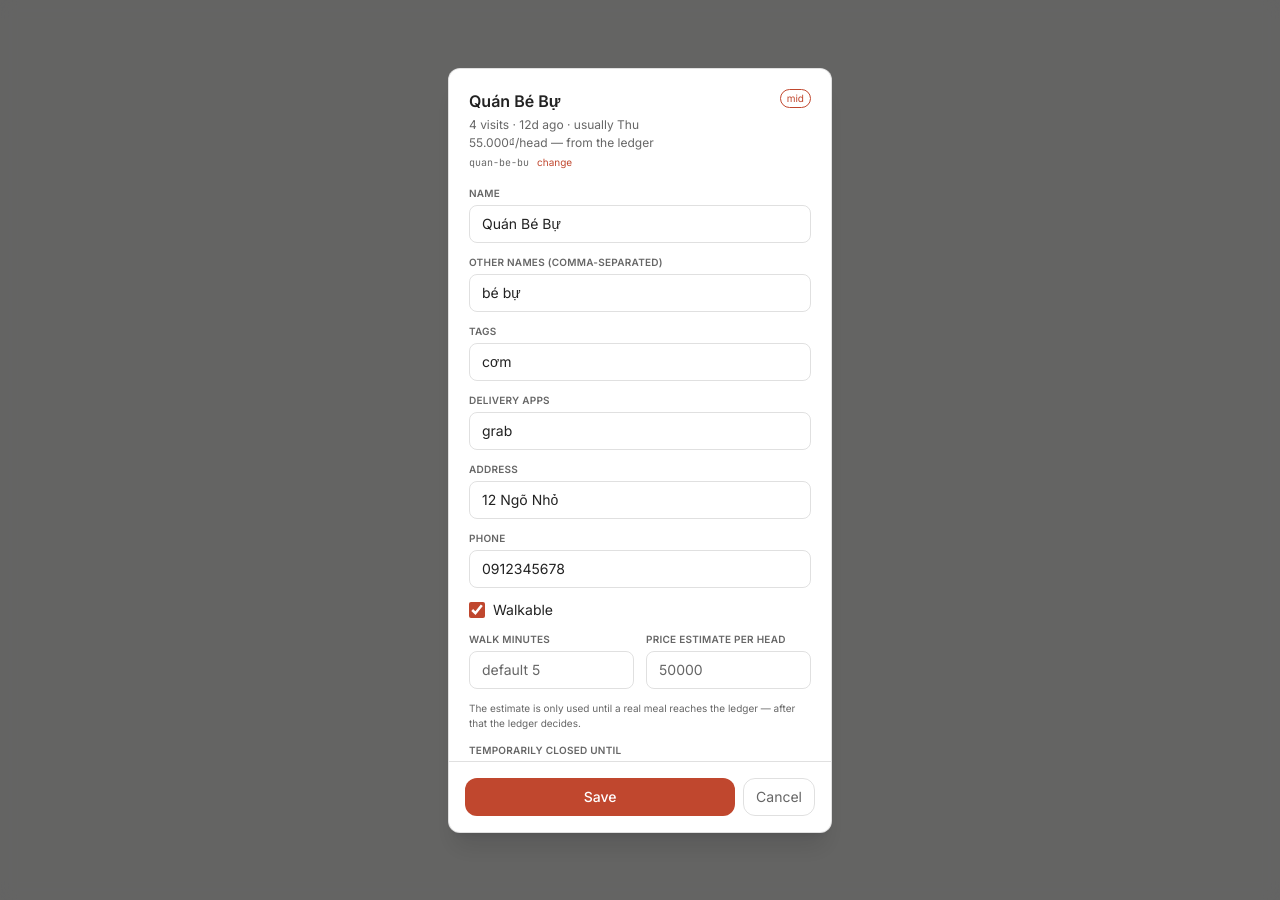
PlaceDialog — changing the identifier › shows a collision as the server described it, and stays open
Click the button "change": x=555, y=162 [537,154,572,170]
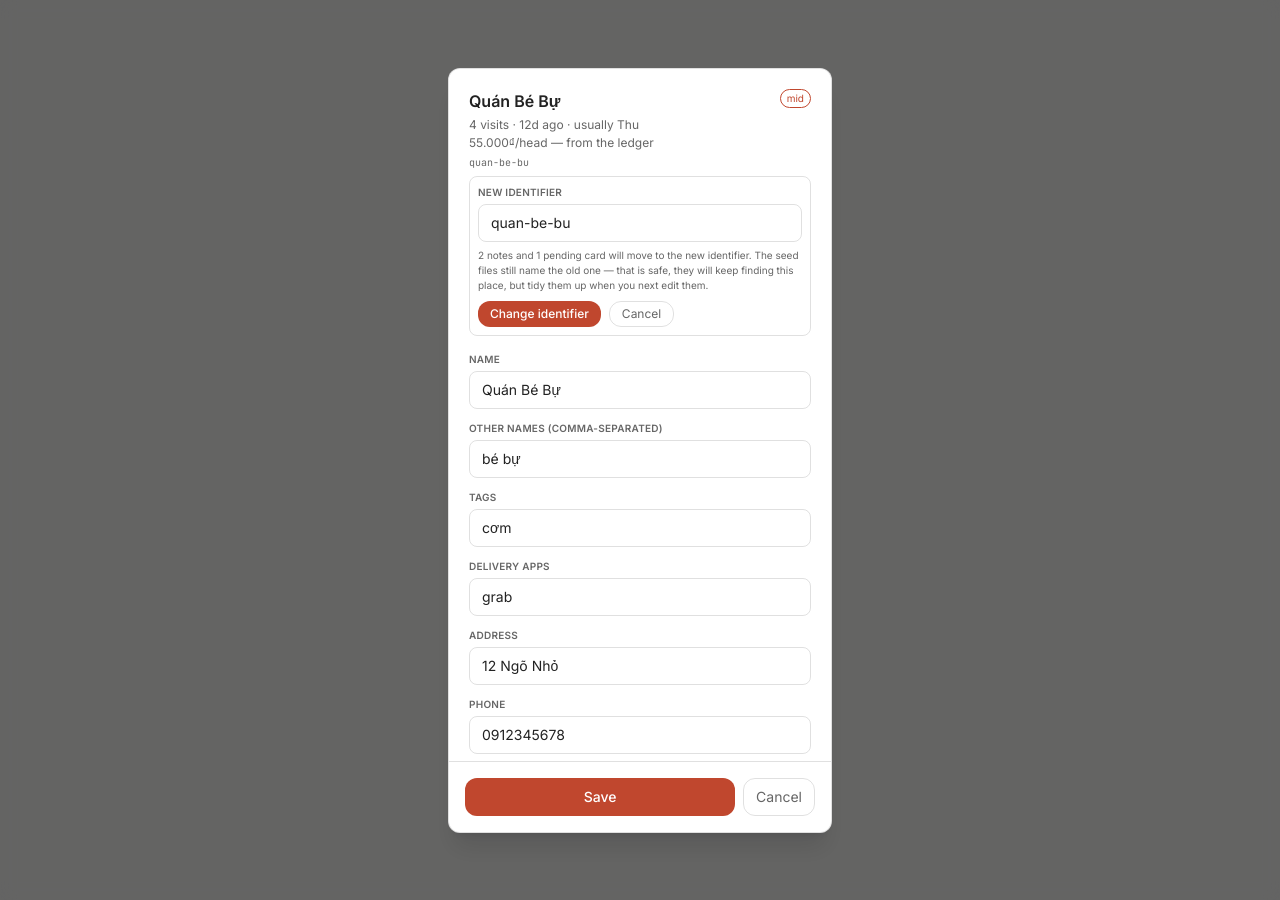
Replace the text in the field labelled "New identifier" with "bun-cha-huong-lien": x=640, y=222 [478,204,802,242]
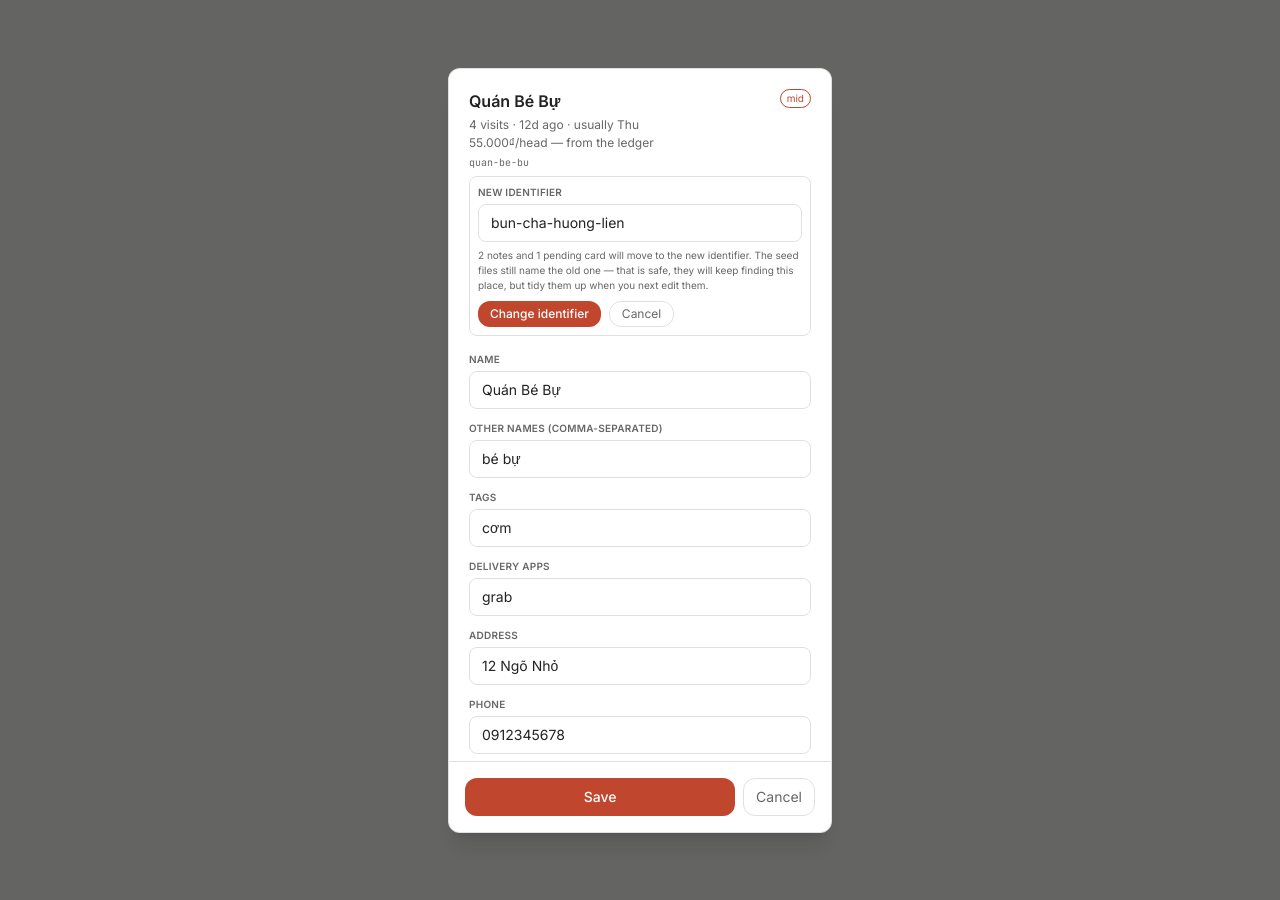
Click the button "Change identifier": x=539, y=314 [478,300,601,326]
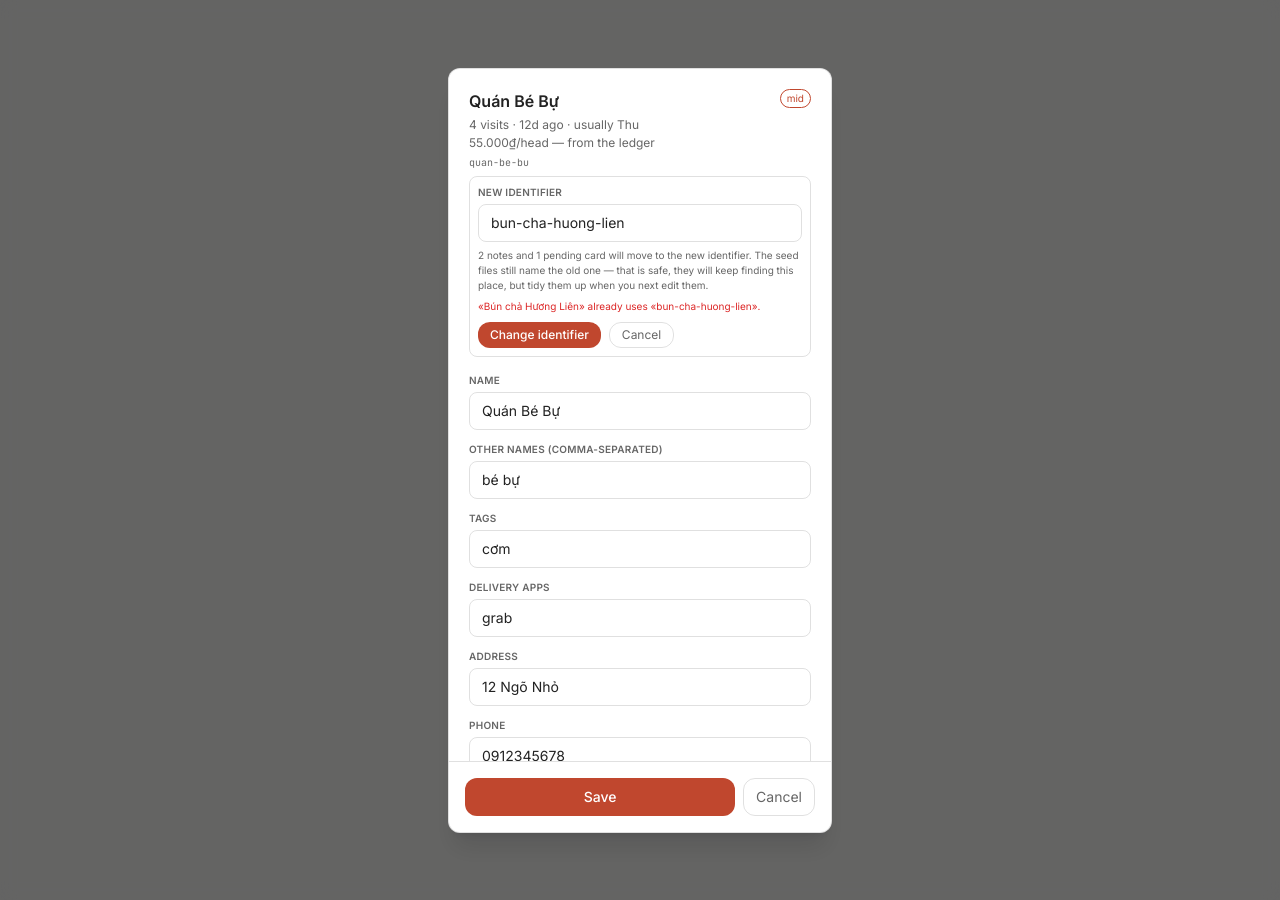
Result: the text "«Bún chả Hương Liên» already uses «bun-cha-huong-lien»." is shown at [478,298,802,314]
